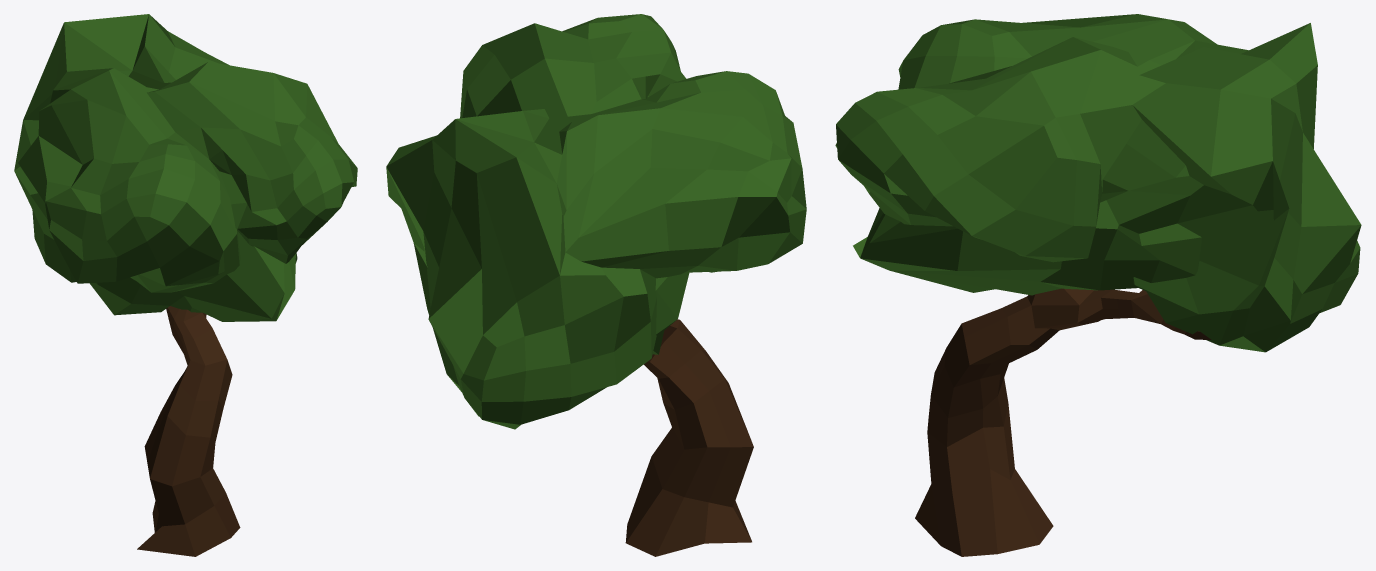
Rendered from Tree_011.fbx.
3 views of the same model, side by side, from view 1: azimuth 30°, elevation 25°; view 2: azimuth 150°, elevation 25°; view 3: azimuth 270°, elevation 25° (orthographic). The views are drawn at different scales.
Parts seen in each view (by area): view 1: tree_011; view 2: tree_011; view 3: tree_011.
Boxes of the visible parts, x1,y1,x2,y2 form: tree_011: [14, 14, 357, 556]; tree_011: [386, 14, 806, 556]; tree_011: [835, 14, 1361, 556].
Size of the model in its own units: 475 by 686 by 626.
